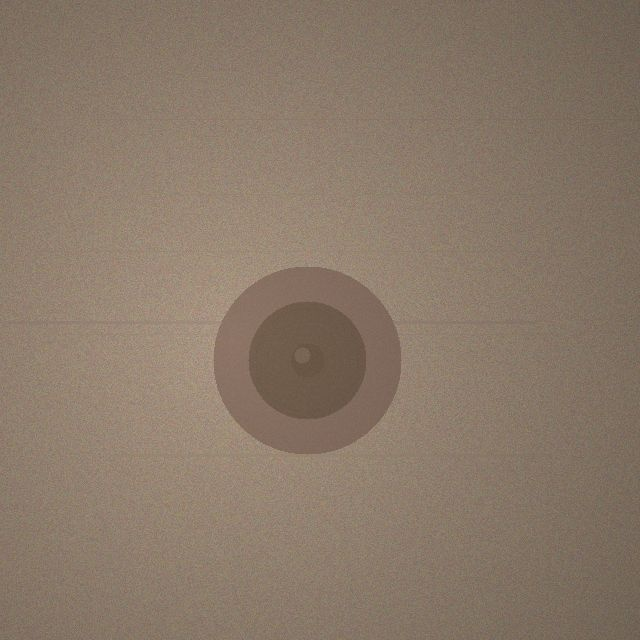good: (213, 266, 401, 454)
